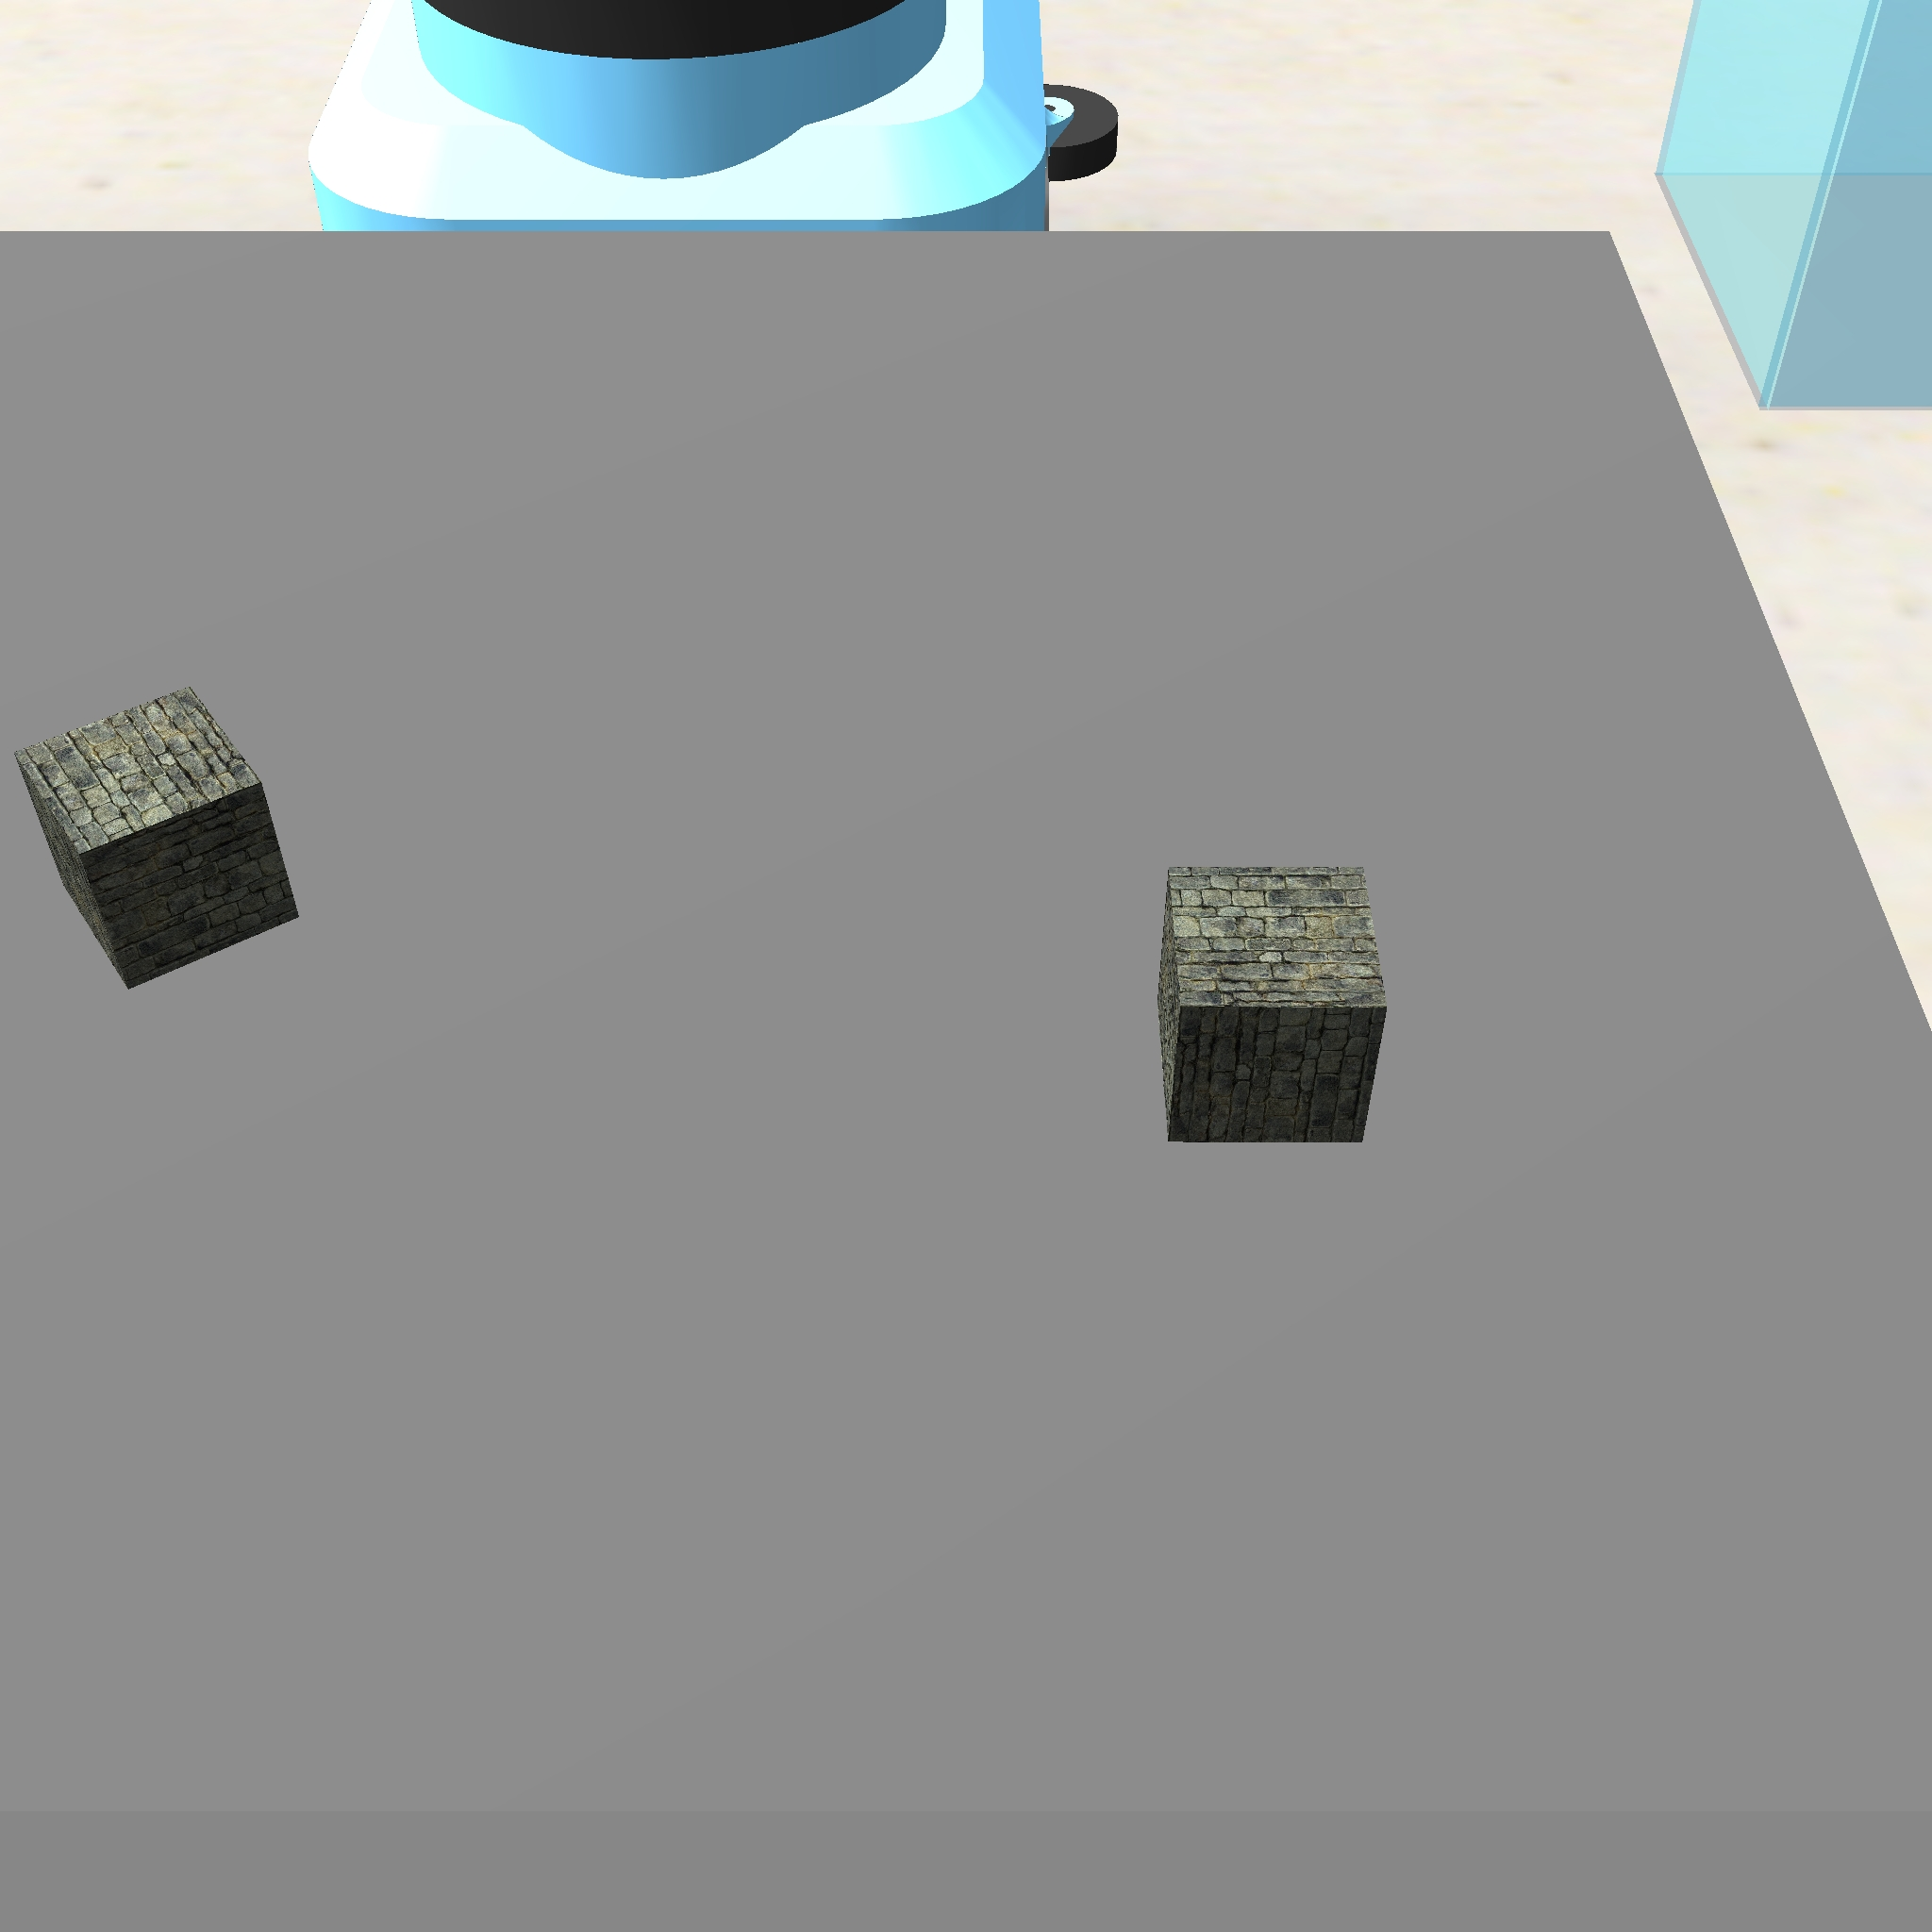cube: (0, 676, 308, 998), (1148, 856, 1394, 1168)
